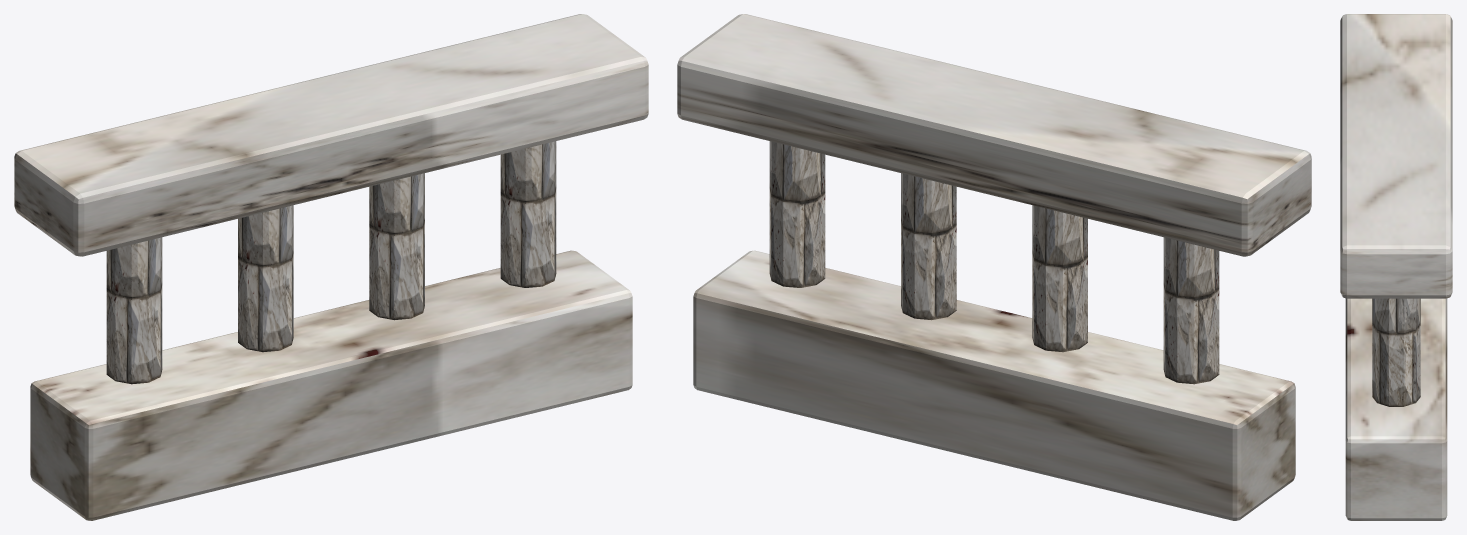
File: balustrade_vault_straight_2m_LOD1.glb
3 renders of one model, left to right at view 1: azimuth 30°, elevation 25°; view 2: azimuth 150°, elevation 25°; view 3: azimuth 270°, elevation 25°, orthographic. The views are drawn at different scales.
Parts seen in each view (by area): view 1: LOD1_Plinth, LOD1_Handrail, LOD1_Baluster.003, LOD1_Baluster, LOD1_Baluster.001, LOD1_Baluster.002; view 2: LOD1_Plinth, LOD1_Handrail, LOD1_Baluster.003, LOD1_Baluster, LOD1_Baluster.001, LOD1_Baluster.002; view 3: LOD1_Handrail, LOD1_Plinth, LOD1_Baluster.003.
Part boxes in pixels (x1,y1,x2,y2): LOD1_Plinth: [30, 250, 632, 520]; LOD1_Handrail: [14, 14, 648, 256]; LOD1_Baluster.003: [500, 141, 556, 287]; LOD1_Baluster: [106, 237, 162, 384]; LOD1_Baluster.001: [238, 205, 293, 352]; LOD1_Baluster.002: [369, 173, 424, 320]; LOD1_Plinth: [693, 250, 1295, 520]; LOD1_Handrail: [677, 14, 1311, 256]; LOD1_Baluster.003: [769, 141, 825, 287]; LOD1_Baluster: [1163, 237, 1219, 384]; LOD1_Baluster.001: [1032, 205, 1087, 352]; LOD1_Baluster.002: [901, 173, 956, 320]; LOD1_Handrail: [1340, 14, 1452, 298]; LOD1_Plinth: [1345, 298, 1447, 520]; LOD1_Baluster.003: [1372, 298, 1420, 406].
Size of the model in its own units: 2.1 by 1.16 by 0.42.
1 material, 1 textured.
